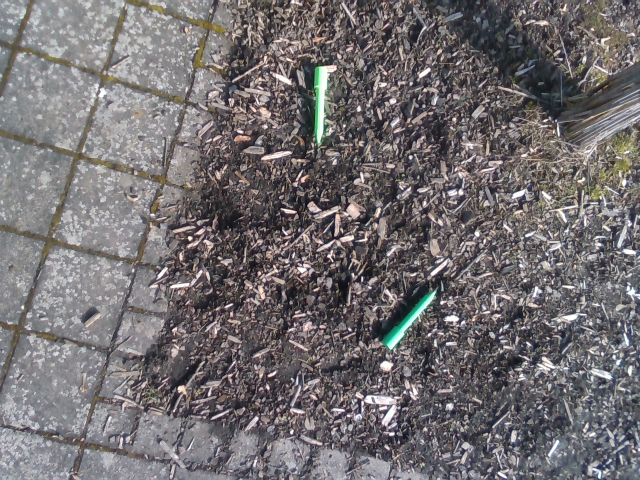Probe: (376, 278, 453, 357), (303, 63, 331, 153)
